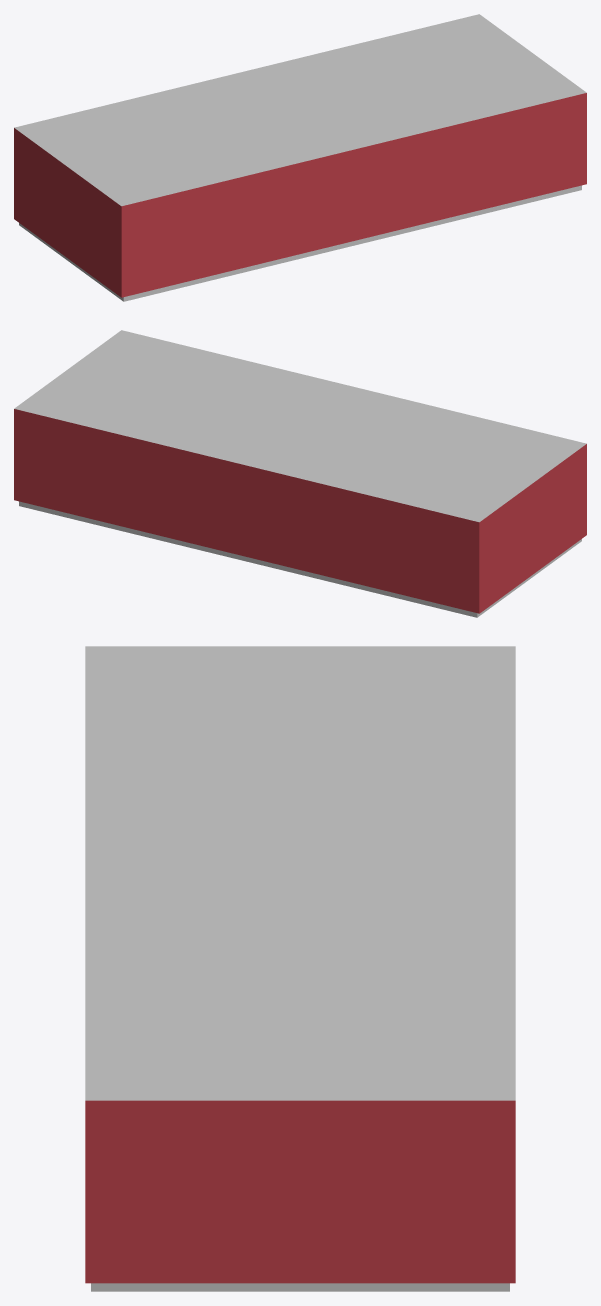
File: house.fbx
3 renders of one model, top to bottom at view 1: azimuth 30°, elevation 25°; view 2: azimuth 150°, elevation 25°; view 3: azimuth 270°, elevation 25°, orthographic. The views are drawn at different scales.
Visible parts, largest first — view 1: Cube; view 2: Cube; view 3: Cube.
Part boxes in pixels (box(x1,y1,x2,y2)): Cube: box(14, 14, 586, 301); Cube: box(14, 330, 586, 617); Cube: box(85, 646, 515, 1291).
Size of the model in its own units: 1000 by 200 by 400.
